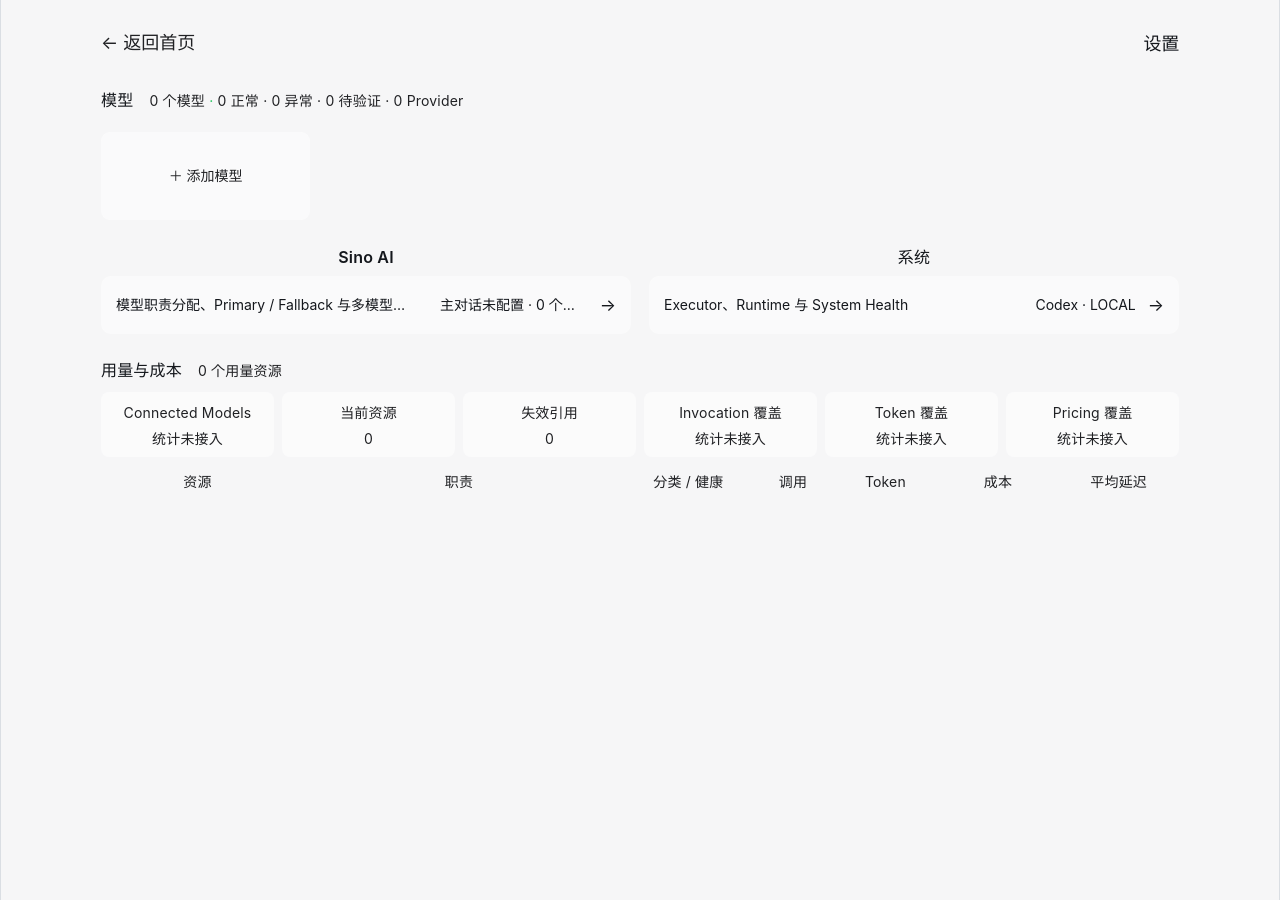
Test case: Founder Settings › shows compact Runtime details by default without a collapse control
Expected: the heading "设置" is shown, [1144,30,1179,56]
Click the button with aria-label "打开系统": coordinates (786, 305) [649,276,1179,334]
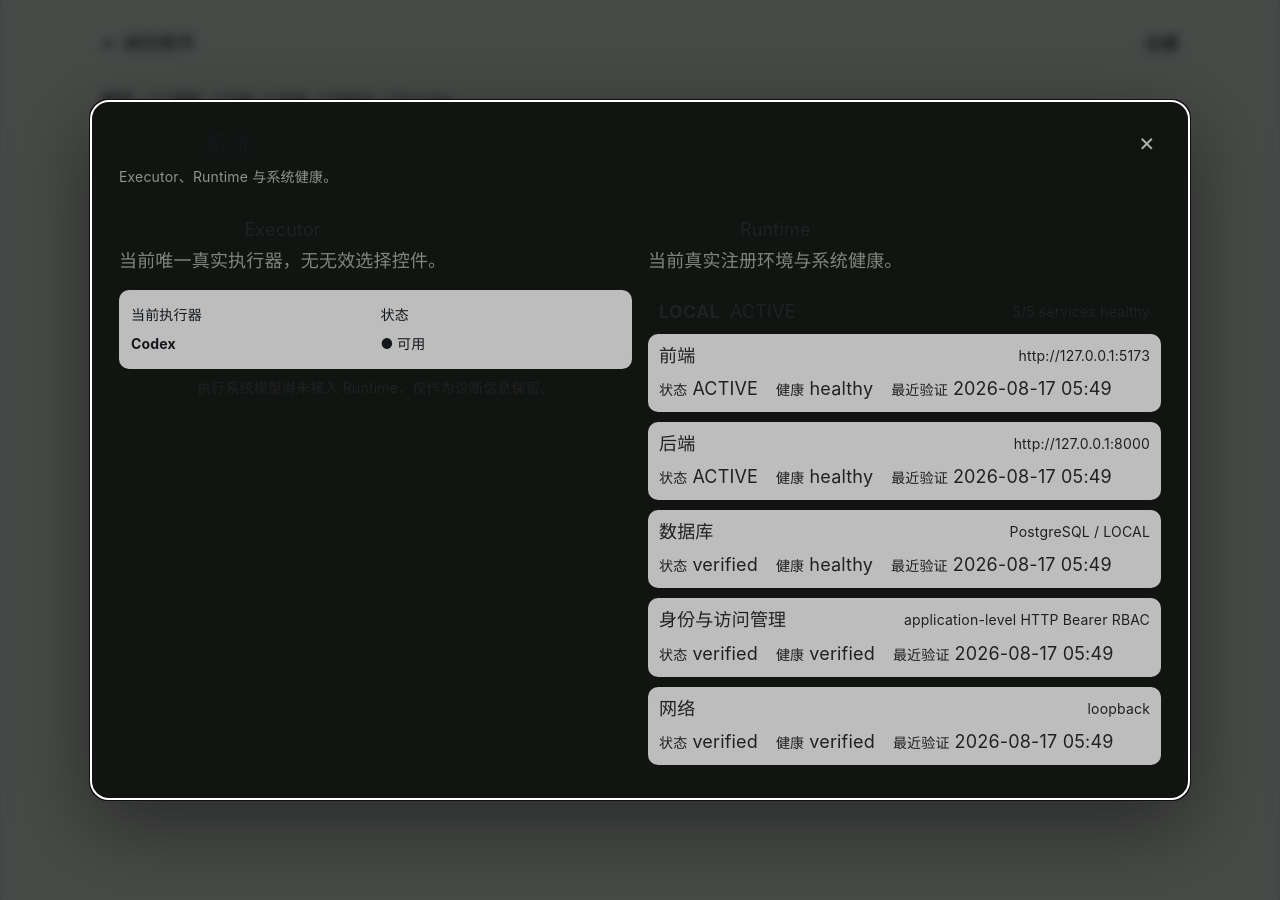
Now the text "http://127.0.0.1:5173" is shown, box [1018,343,1150,369]
Now the text "http://127.0.0.1:8000" is shown, box [1014,431,1150,457]
Now the text "2026-08-17 05:49" below "前端" is shown, box [953,378,1112,399]
